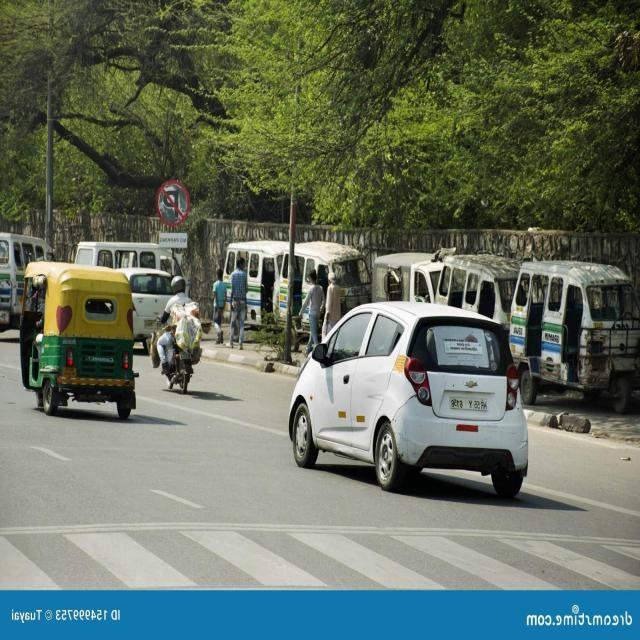autorickshaw: (20, 261, 138, 418)
car: (289, 303, 529, 498)
motorcycle: (150, 277, 202, 392)
